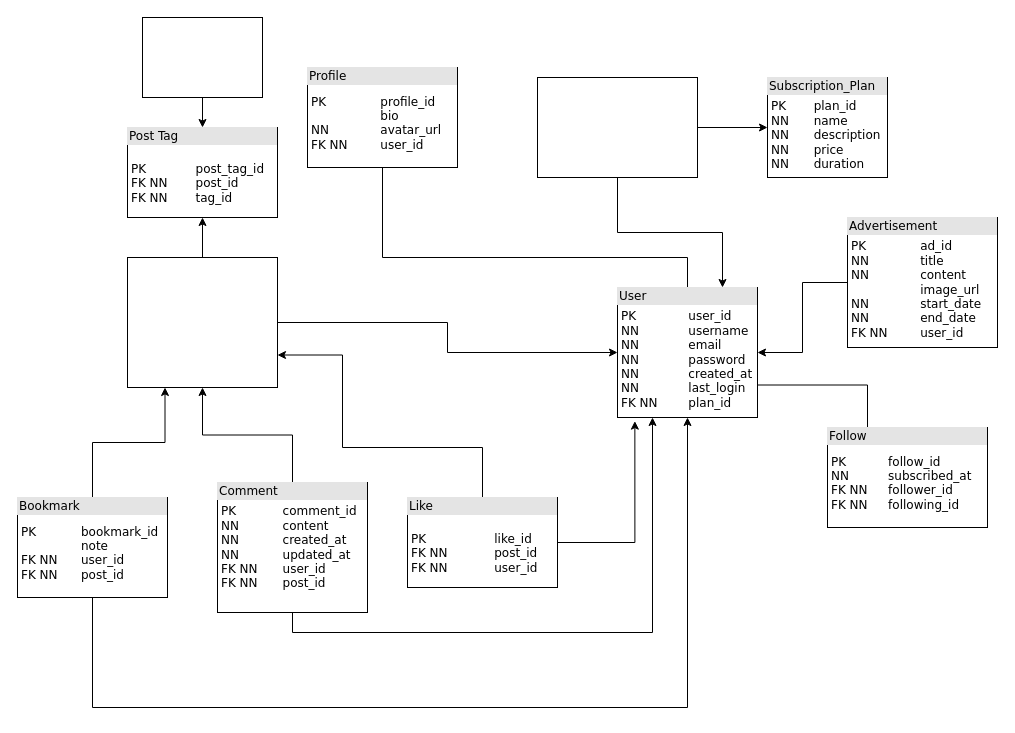
Some shapes in this 1015 by 733 pixel diagram are drawn without their labels. Each missing label, with the centre of its shape:
Payment PK NN FK NN FK NN payment_id payment_date user_id plan_id: [617,127]
Post PK NN NN NN NN FK NN post_id title content created_at updated_at user_id: [202,322]
Tag PK NN tag_id name: [202,57]
